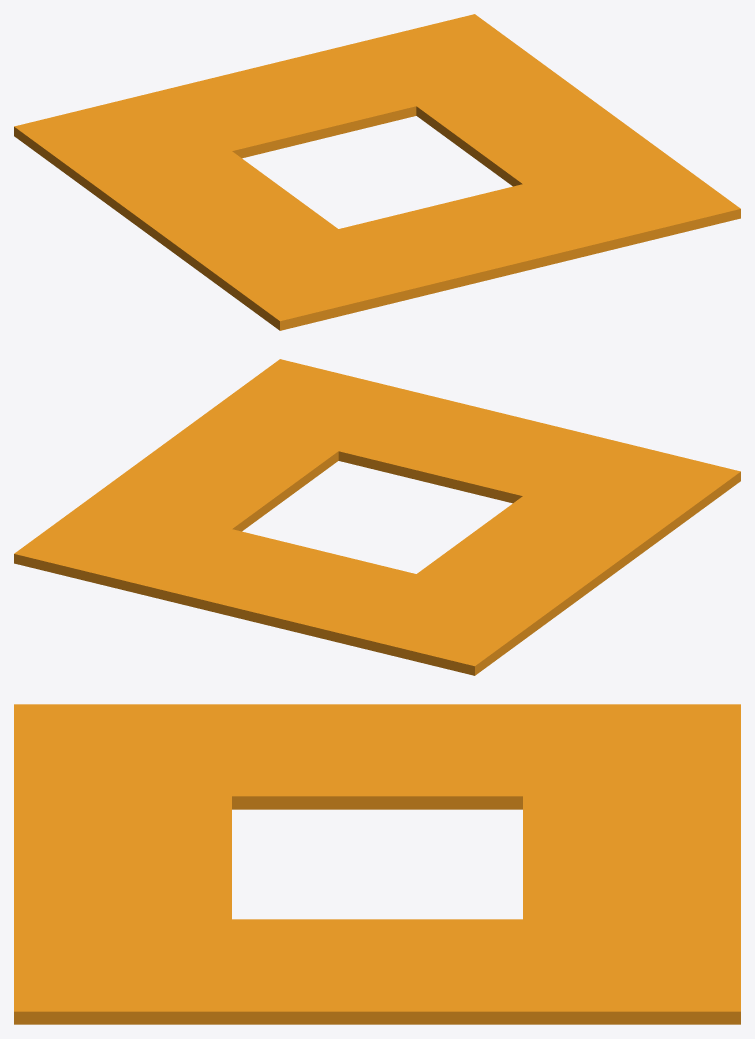
The model's file is SM_Buildings_FloorHole_5x5_01.fbx.
3 views of the same model, one above another, from view 1: azimuth 30°, elevation 25°; view 2: azimuth 150°, elevation 25°; view 3: azimuth 270°, elevation 25° (orthographic). The views are drawn at different scales.
Parts seen in each view (by area): view 1: SM_Buildings_FloorHole_5x5_01; view 2: SM_Buildings_FloorHole_5x5_01; view 3: SM_Buildings_FloorHole_5x5_01.
Part boxes in pixels (x1,y1,x2,y2): SM_Buildings_FloorHole_5x5_01: (14, 14, 740, 330); SM_Buildings_FloorHole_5x5_01: (14, 359, 740, 675); SM_Buildings_FloorHole_5x5_01: (14, 704, 740, 1024).
Size of the model in its own units: 500 by 10 by 500.
